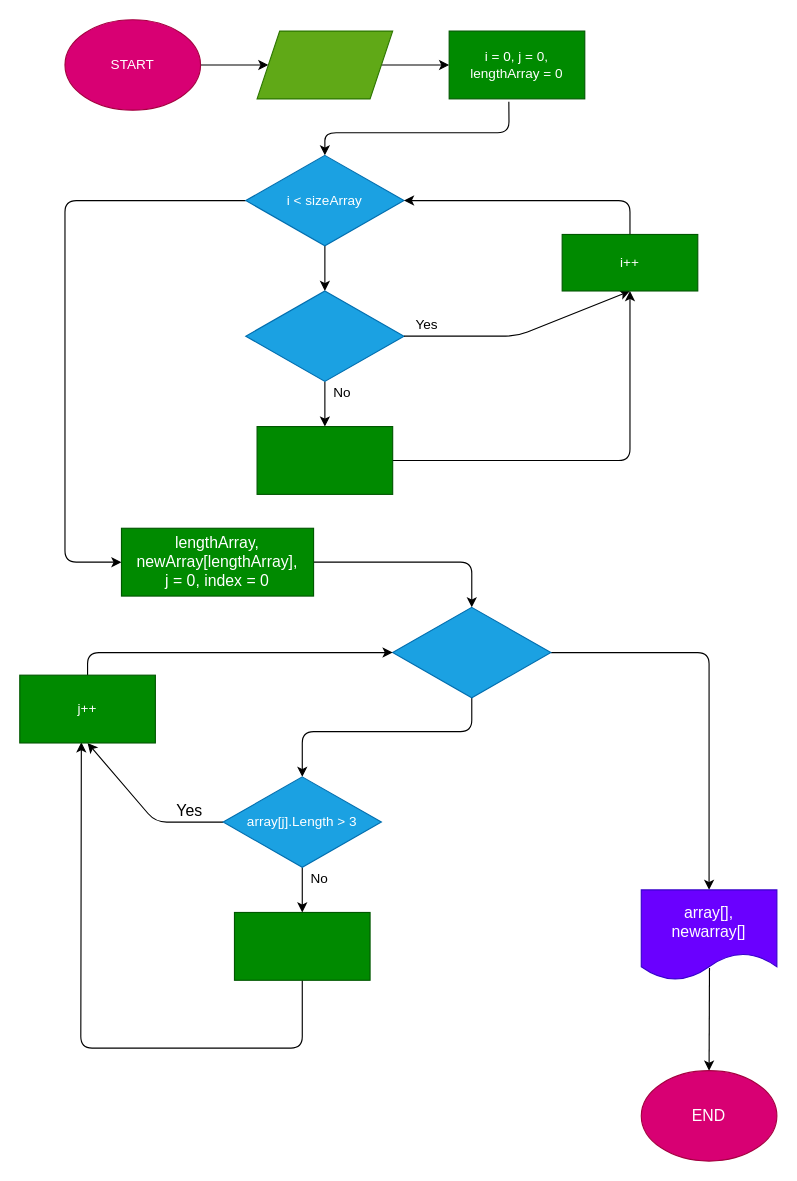
Some shapes in this 797 by 1181 pixel diagram are drawn without their labels. The centre of each missing label's shape, as x and y in pixels:
"array[i] > 3" belongs at (x=324, y=335).
"j < sizeArray" belongs at (x=471, y=652).
"lengthArray++," belongs at (x=324, y=459).
"newArray[index] = array[j], index++" belongs at (x=301, y=945).
"sizeArray, array[]" belongs at (x=324, y=64).
